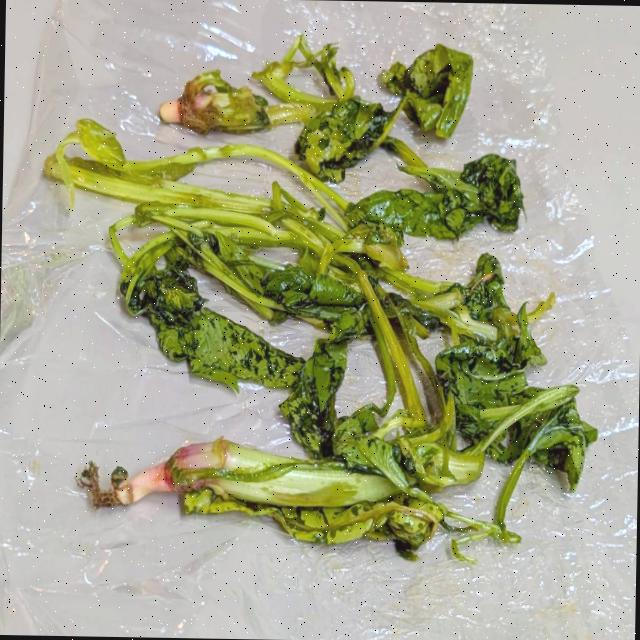rotten spinach: (34, 12, 591, 585), (28, 16, 478, 403), (72, 297, 601, 569), (25, 125, 530, 312), (128, 21, 498, 182), (134, 213, 386, 429), (423, 324, 560, 468), (282, 66, 406, 216)
